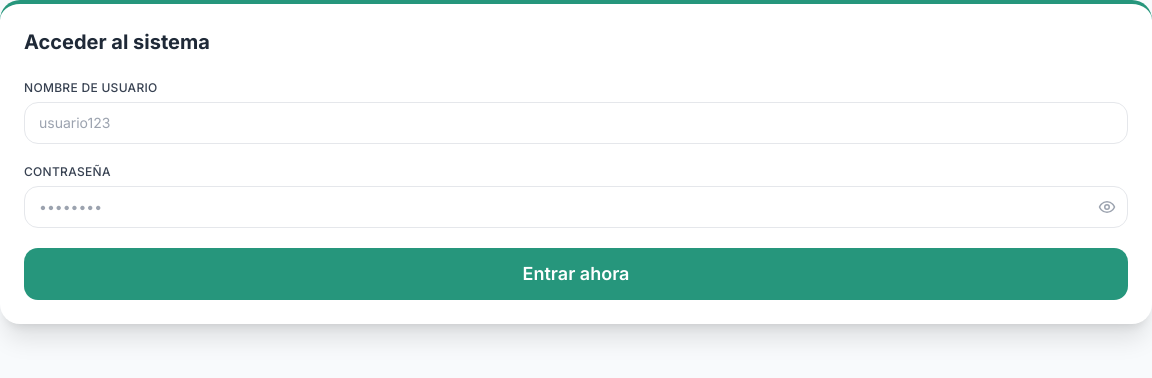
LoginForm › valida password menor a 8 caracteres
The image size is (1152, 378).
Step 1. Type "testuser" into the field labelled "Nombre de usuario" → (576, 123), box [24,102,1128,144]
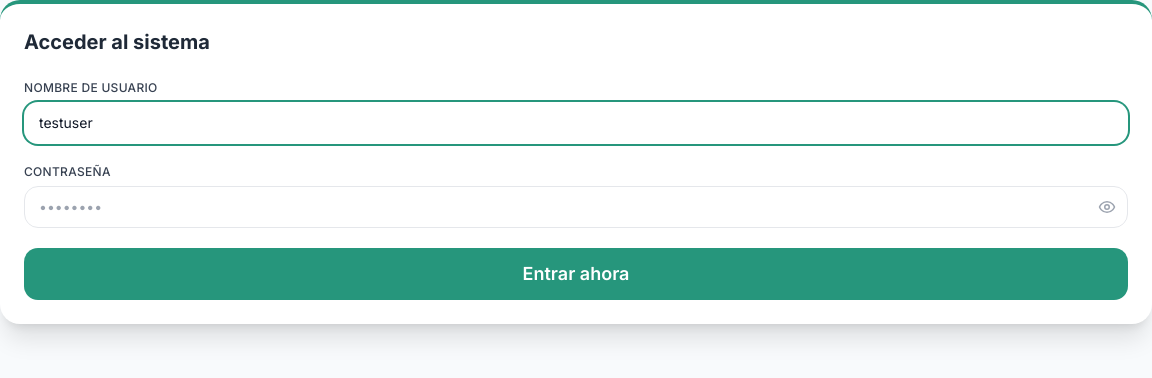
Step 2. Type "short" into the password field labelled "Contraseña" → (576, 207), box [24,186,1128,228]
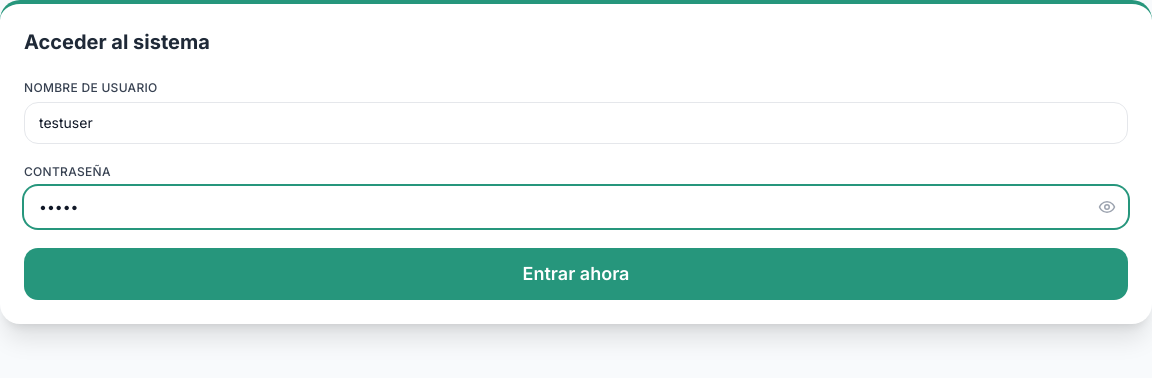
Step 3. Click the button "Entrar ahora" → (576, 274), box [24,248,1128,300]
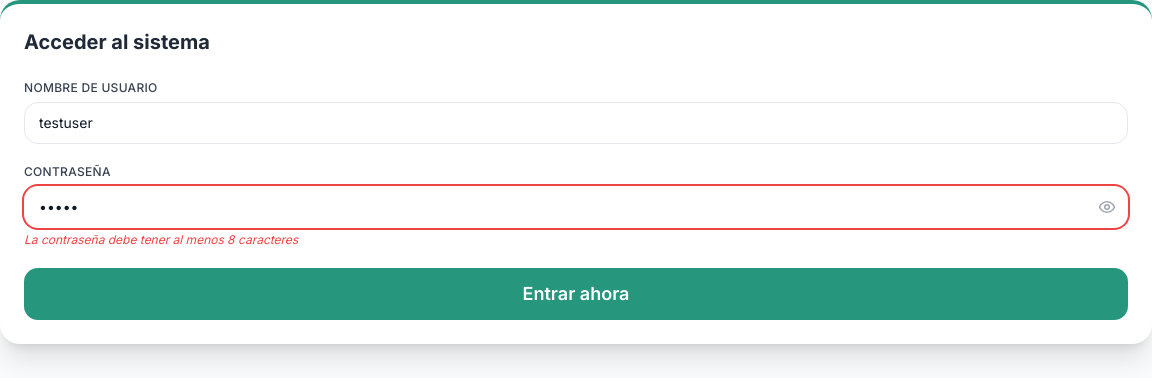
Expected: the text "La contraseña debe tener al menos 8 caracteres" is shown, [24,232,298,247]
